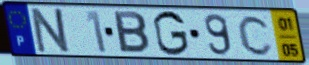1: (85, 9, 109, 54)
9: (203, 12, 233, 57)
B: (112, 10, 152, 56)
C: (236, 13, 275, 57)
G: (151, 9, 191, 58)
N: (30, 6, 74, 55)
